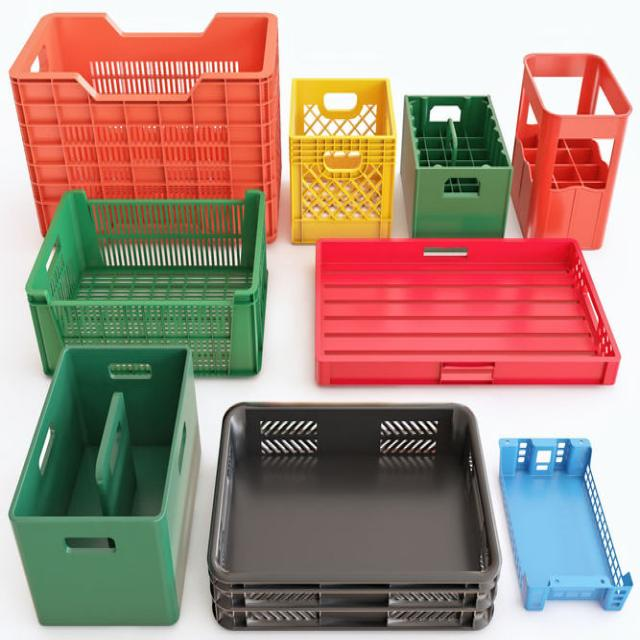basket: (208, 403, 502, 631), (9, 13, 281, 241), (9, 349, 201, 627), (25, 190, 268, 376), (316, 239, 622, 385), (287, 76, 397, 244), (401, 95, 515, 238)
